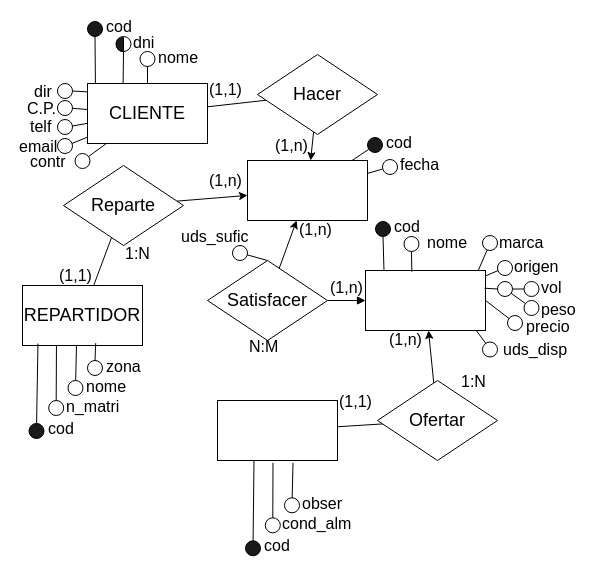
Some shapes in this 594 by 574 pixel diagram are drawn without their labels. Each missing label, with the box of its shape:
CATEGORÍA: (216, 400, 338, 460)
PEREGRINO: (246, 160, 368, 220)
PRODUCTO: (364, 270, 486, 330)
